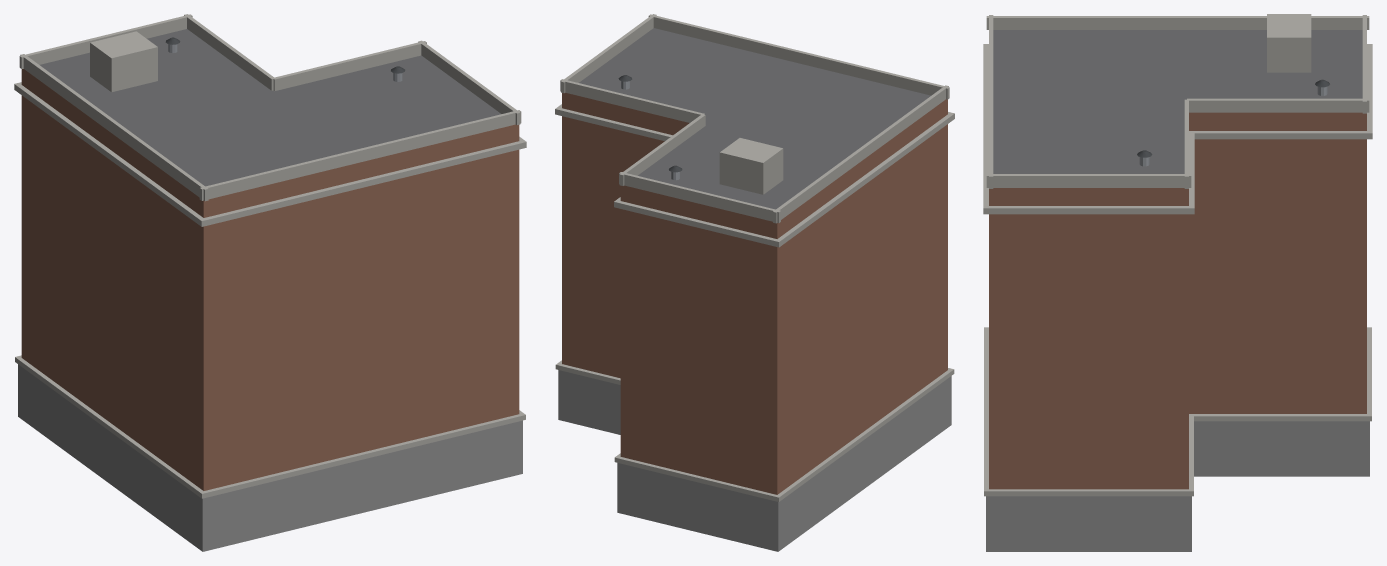
Rendered from building_04.glb.
The picture shows the model from 3 angles, left to right: view 1: azimuth 30°, elevation 25°; view 2: azimuth 150°, elevation 25°; view 3: azimuth 270°, elevation 25°; orthographic projection. The views are drawn at different scales.
Visible parts, largest first — view 1: Render; view 2: Render; view 3: Render.
Boxes of the visible parts, bbox=[...] form: Render: bbox=[14, 14, 526, 551]; Render: bbox=[555, 14, 954, 551]; Render: bbox=[983, 14, 1372, 551].
Bounding box in the file's own units: 35 × 39.5 × 35.
